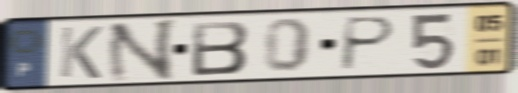0: (261, 15, 314, 76)
5: (409, 10, 458, 71)
B: (189, 18, 252, 78)
K: (56, 24, 105, 81)
N: (105, 16, 180, 85)
P: (336, 14, 399, 73)
